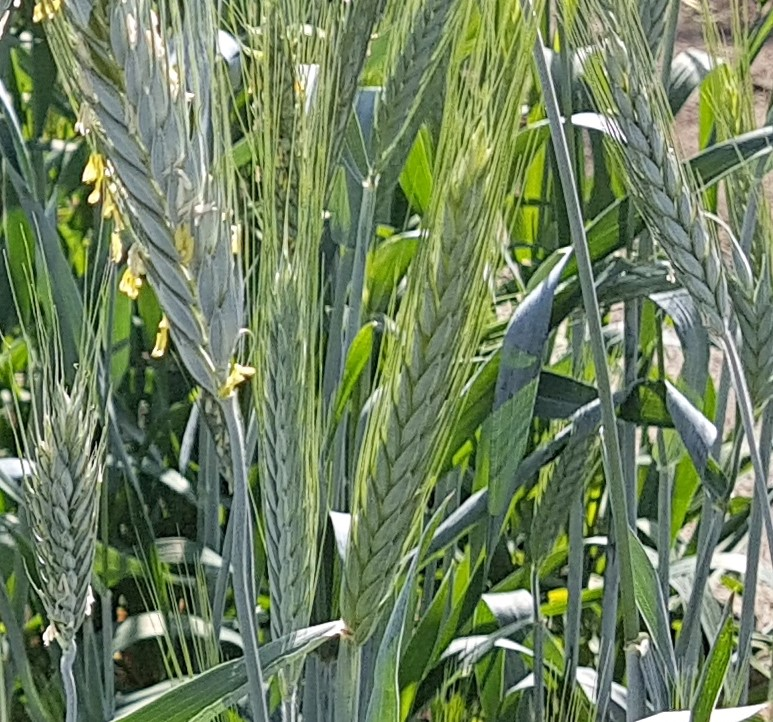Healthy Wheat: (333, 155, 511, 626), (588, 29, 755, 330), (27, 373, 116, 625)
